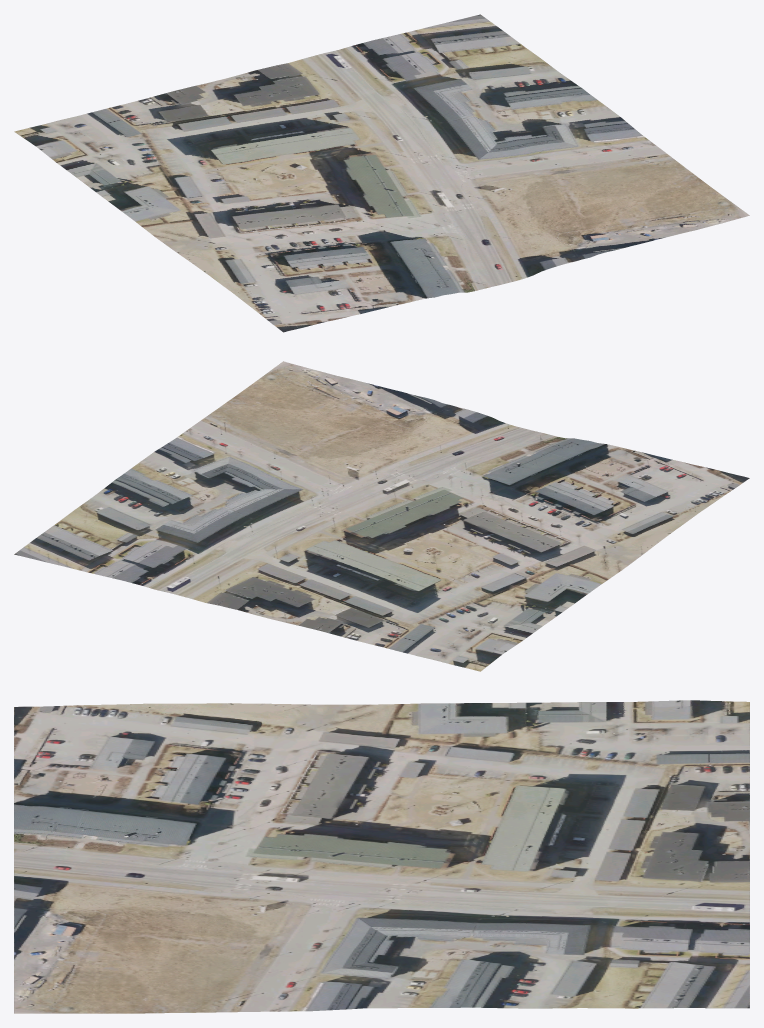
Rendered from CM_Terrain_24490663_6818565.fbx.
3 renders of one model, top to bottom at view 1: azimuth 30°, elevation 25°; view 2: azimuth 150°, elevation 25°; view 3: azimuth 270°, elevation 25°, orthographic. The views are drawn at different scales.
Visible parts, largest first — view 1: CM_Terrain_24490663_6818565_LOD0; view 2: CM_Terrain_24490663_6818565_LOD0; view 3: CM_Terrain_24490663_6818565_LOD0.
Boxes of the visible parts, left/top/right/bottom form: CM_Terrain_24490663_6818565_LOD0: left=14, top=14, right=749, bottom=332; CM_Terrain_24490663_6818565_LOD0: left=14, top=361, right=749, bottom=671; CM_Terrain_24490663_6818565_LOD0: left=14, top=700, right=749, bottom=1013.
Size of what is drawn, in the model's own units: 205 by 5.71 by 205.
